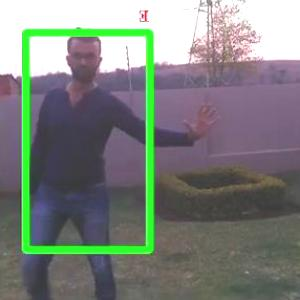follow_hand: (183, 100, 226, 140)
